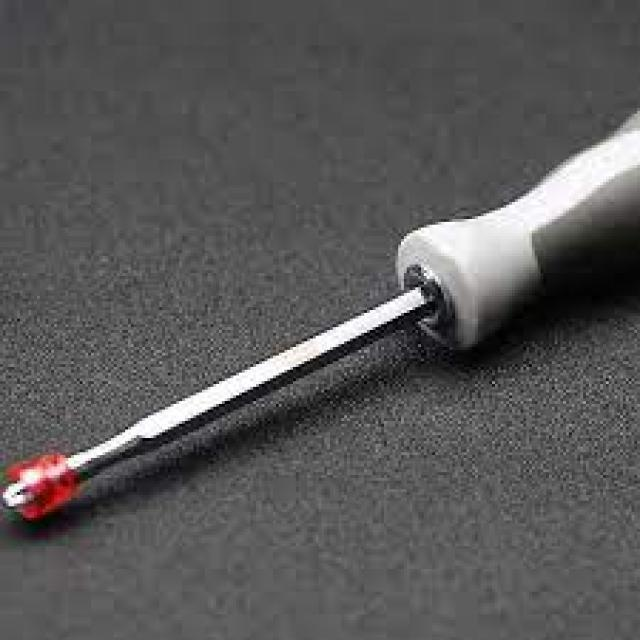screwdriver: (3, 100, 640, 524)
